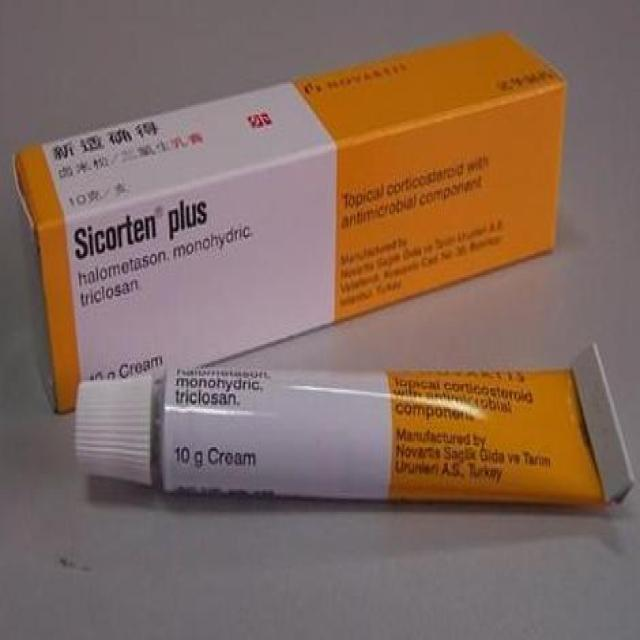-Hazardous waste - medicine inner packaging-: (77, 340, 635, 510)
-Recyclables - paper box-: (13, 26, 559, 413)
